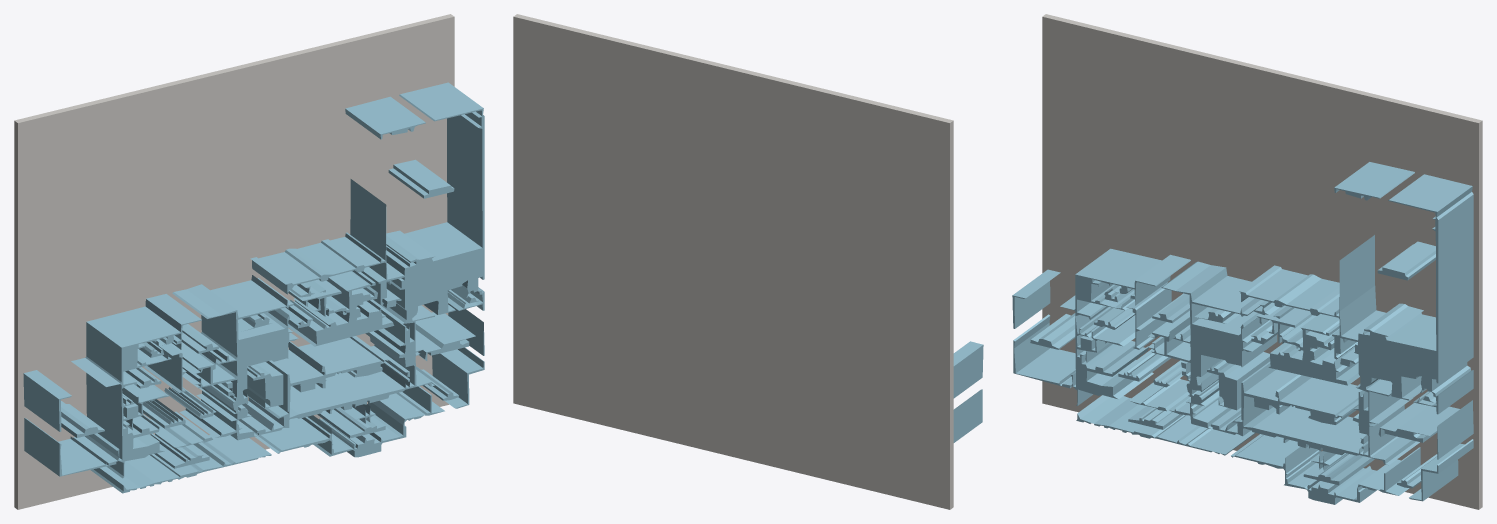
3 renders of one model, left to right at view 1: azimuth 30°, elevation 25°; view 2: azimuth 150°, elevation 25°; view 3: azimuth 330°, elevation 25°, orthographic.
Visible parts, largest first — view 1: world; view 2: world; view 3: world.
Boxes of the visible parts, left/top/right/bottom form: world: left=14, top=14, right=484, bottom=509; world: left=513, top=14, right=983, bottom=509; world: left=1012, top=14, right=1482, bottom=509.
Size of the model in its own units: 10.23 by 8.66 by 1.59.
